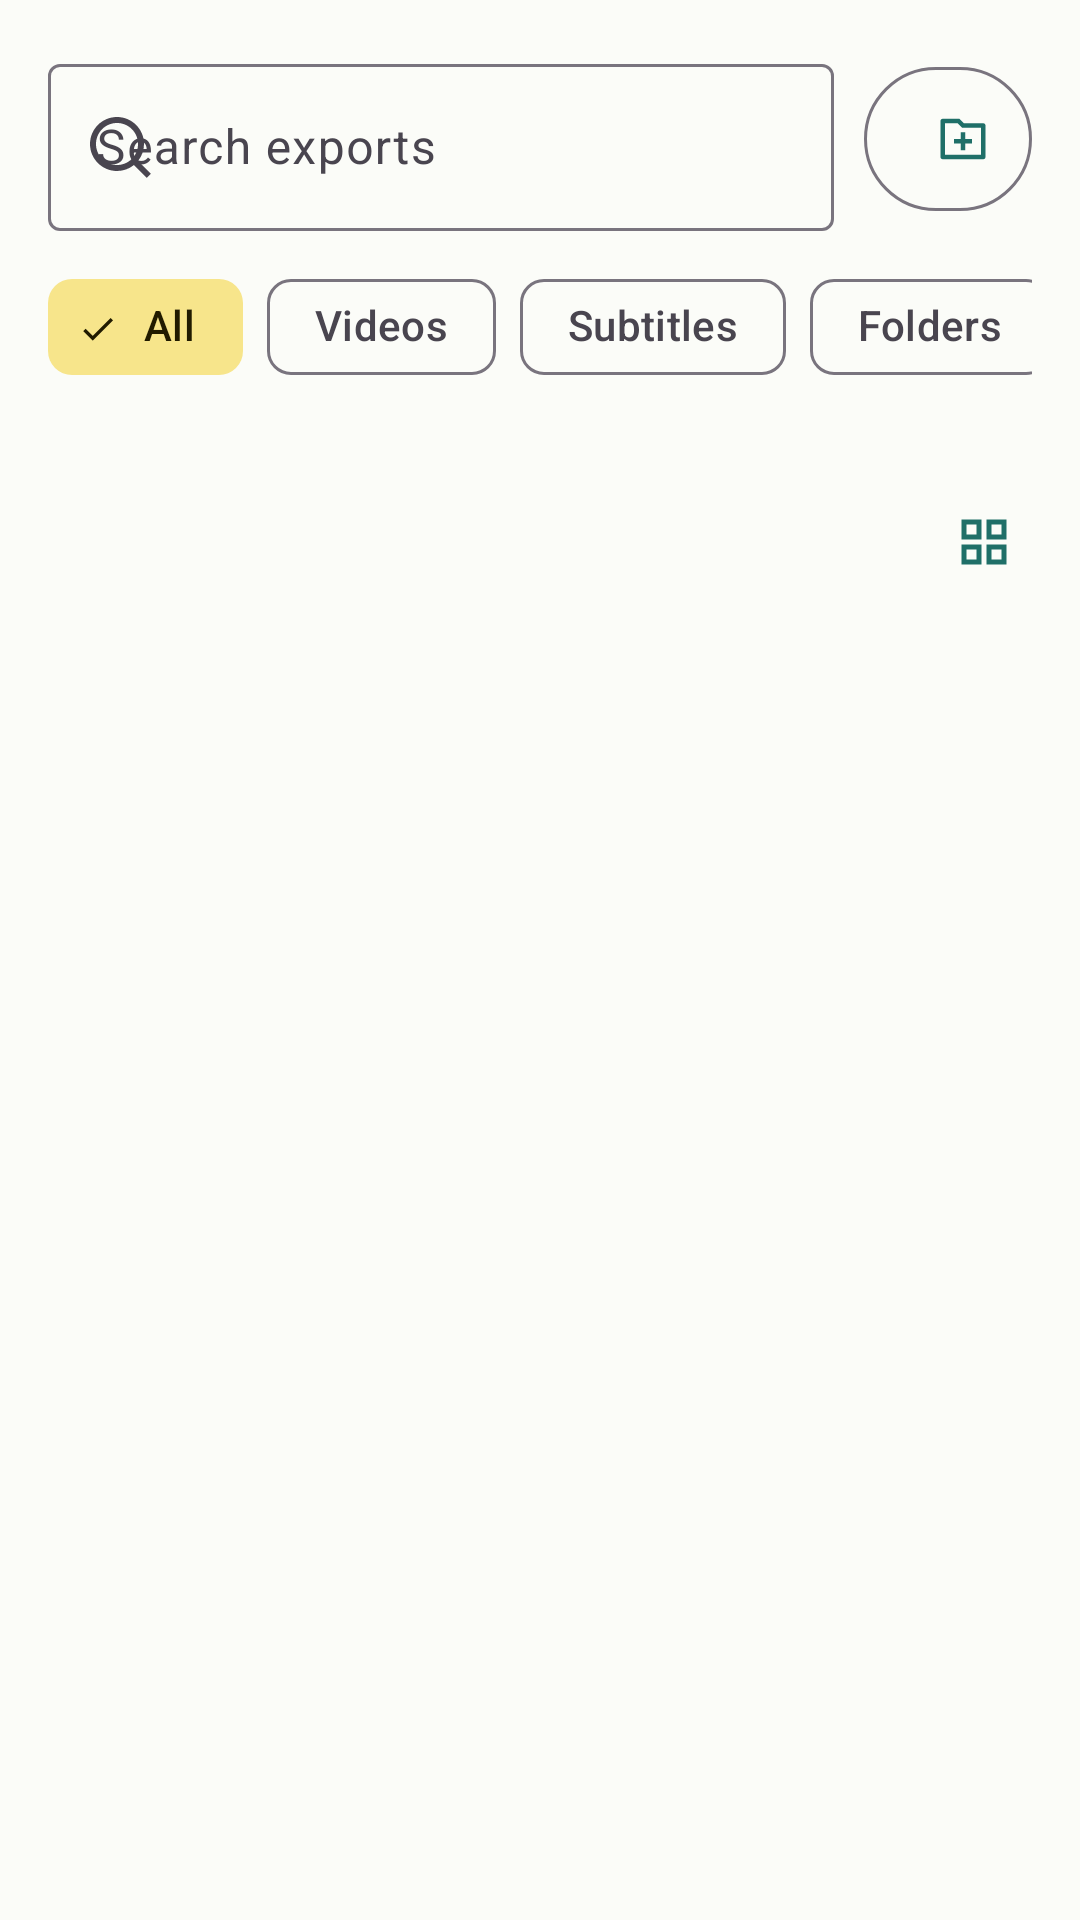

Icons on this 1080x1920 Android screen, each with the point to tap as [x,y]:
Create folder: [948,139]
Switch layout view: [984,542]
